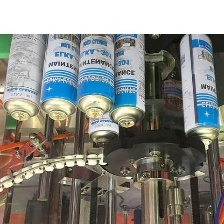aerosol_cans: (36, 11, 87, 125), (1, 11, 52, 125), (176, 27, 221, 153), (106, 12, 147, 132), (74, 8, 116, 122), (85, 53, 120, 152)
